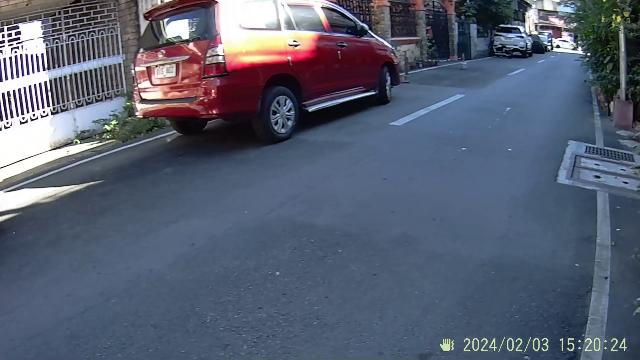utility_post: (613, 3, 635, 131)
